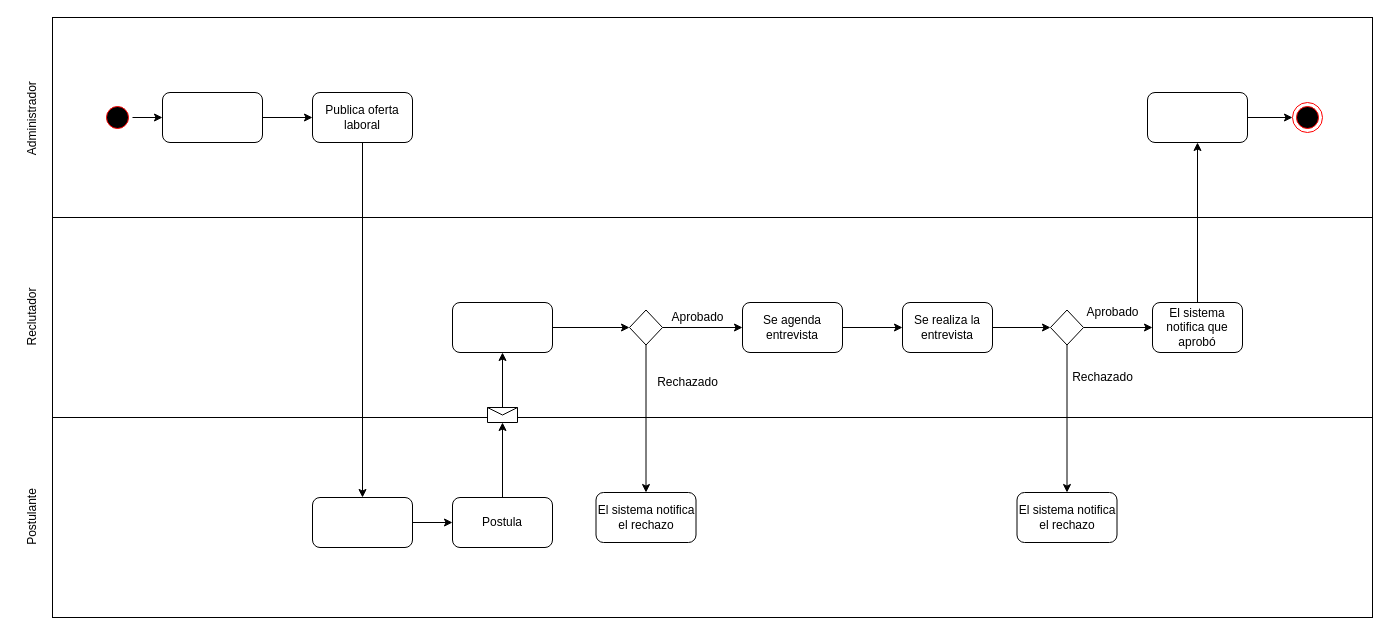
Image size: 1390x635. Some labels were removed from this diagram. Each missing label, with the centre of its shape:
Crea/Edita oferta laboral: [212,117]
Elimina la oferta laboral: [1197,117]
Encuentra la oferta laboral: [362,522]
Revisa Postulación: [502,327]
